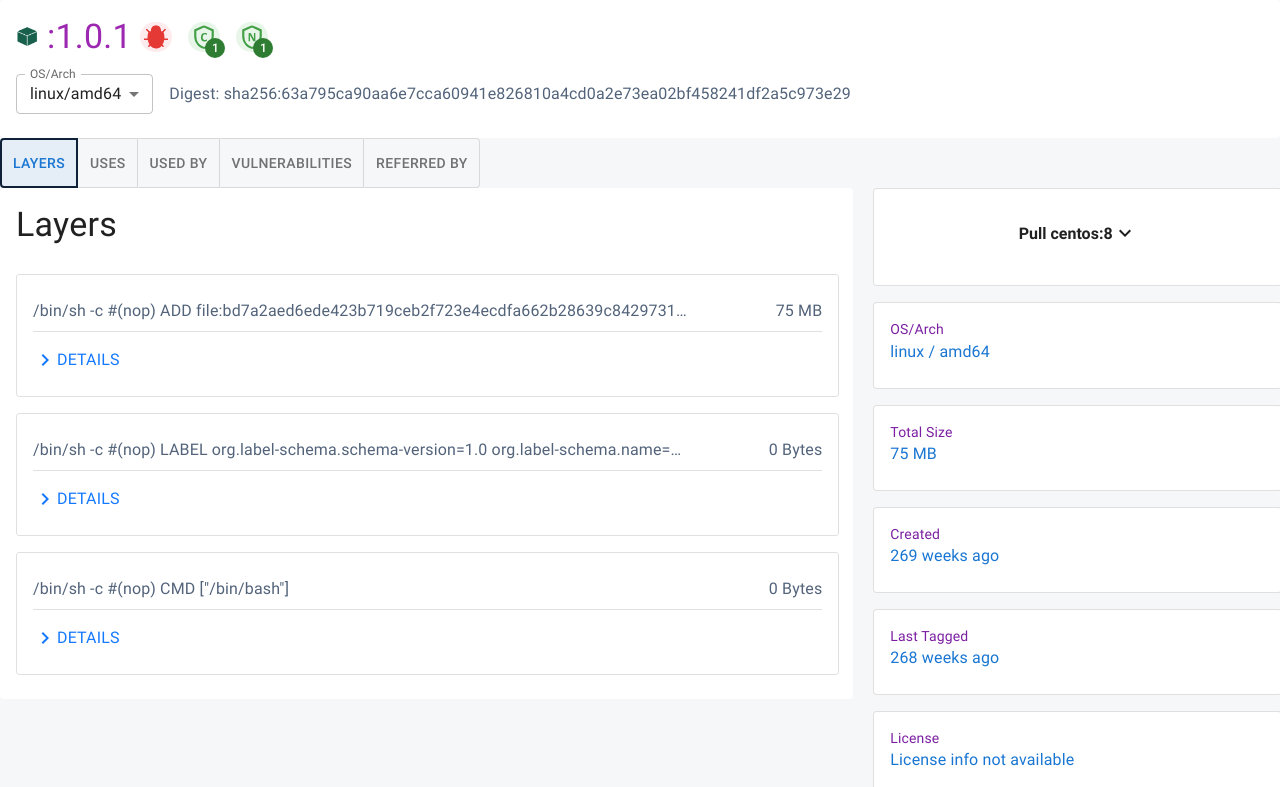
Test case: Tags details › should show tabs and allow nagivation between them
Click the tab with test id "dependencies-tab" at (108, 163), box [78,138,138,188]
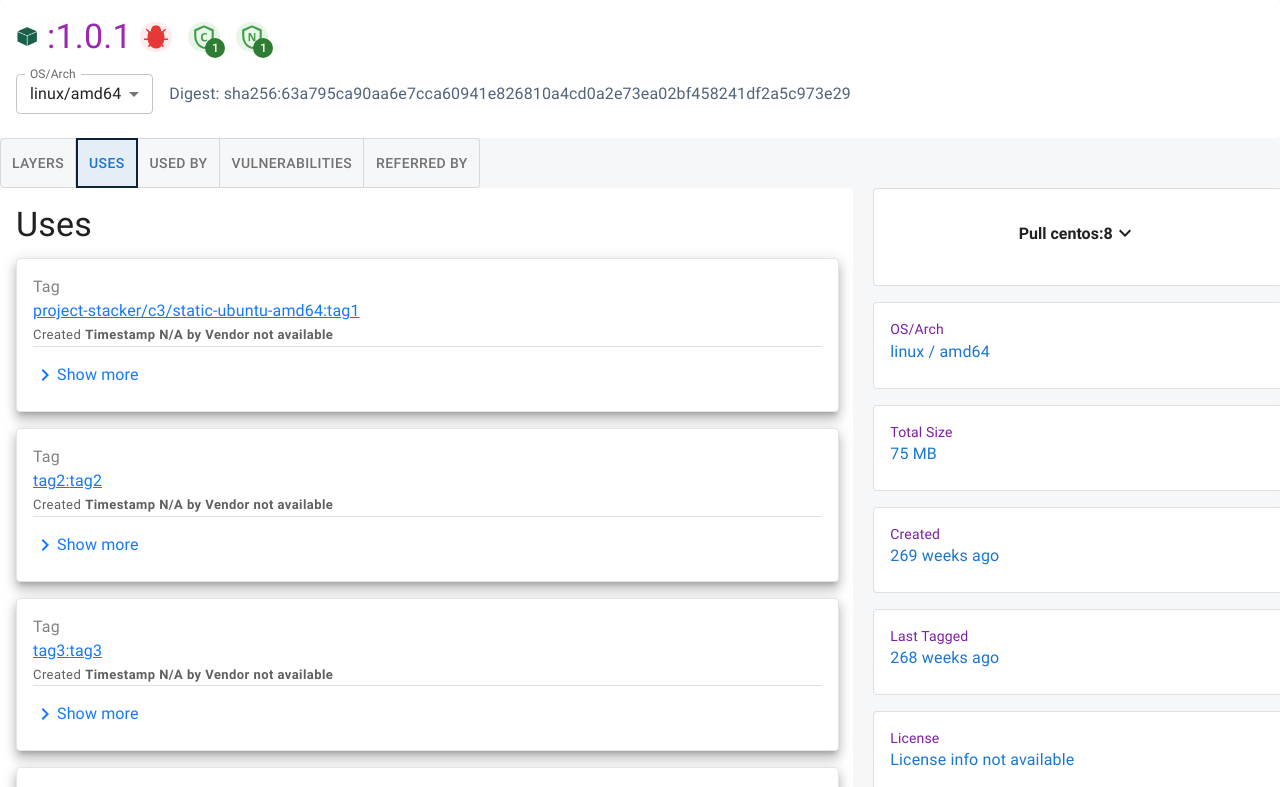
Click the tab "Used by" at (179, 163), box [138,138,220,188]
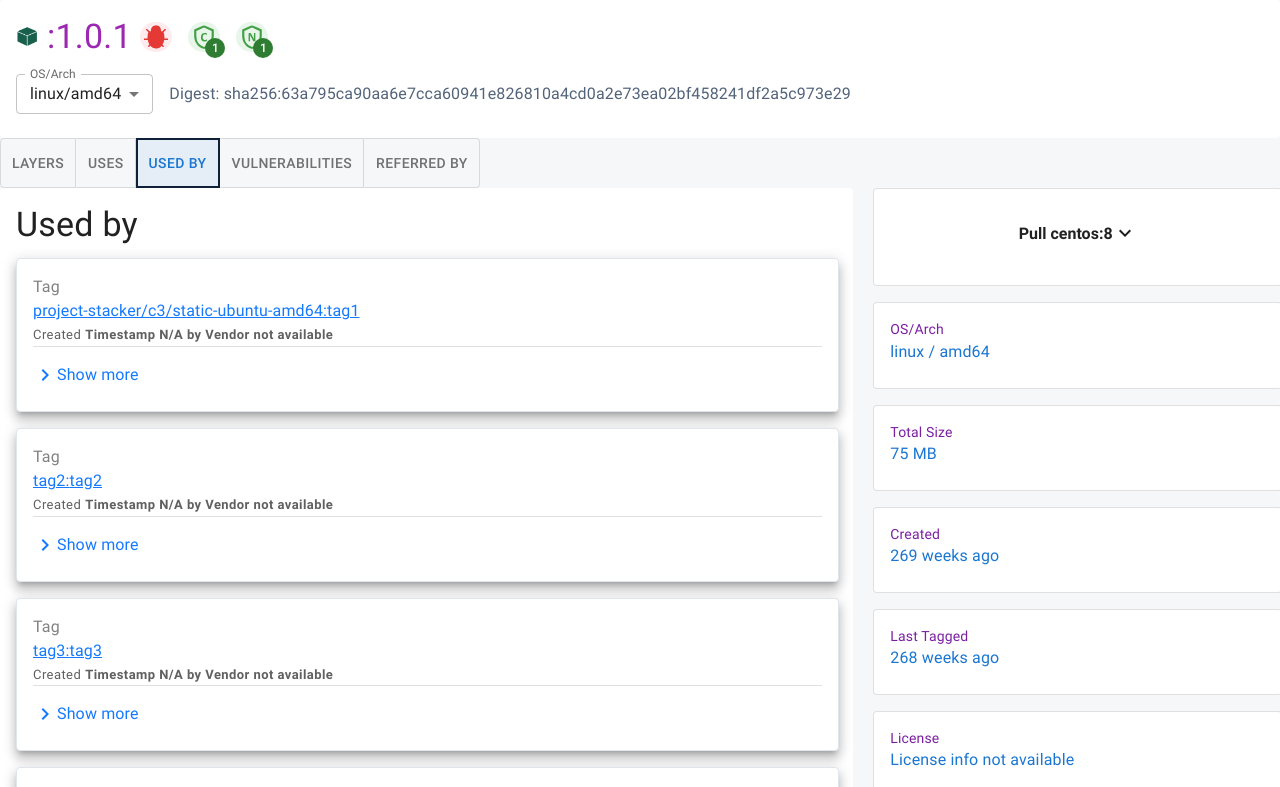
Click the tab "Vulnerabilities" at (292, 163), box [220,138,364,188]
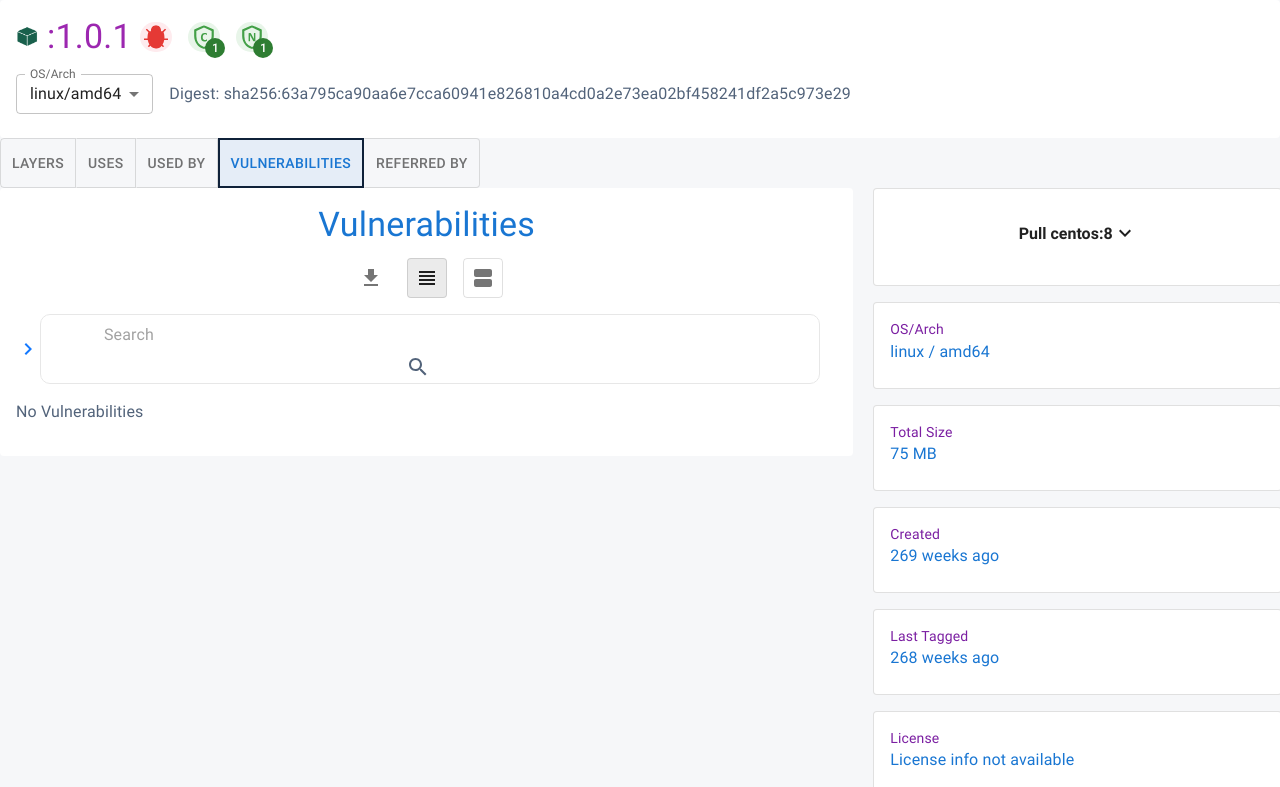
Result: the element with test id "vulnerability-container" is shown at [16,204,837,432]
Click the tab "Referred by" at (422, 163), box [364,138,480,188]
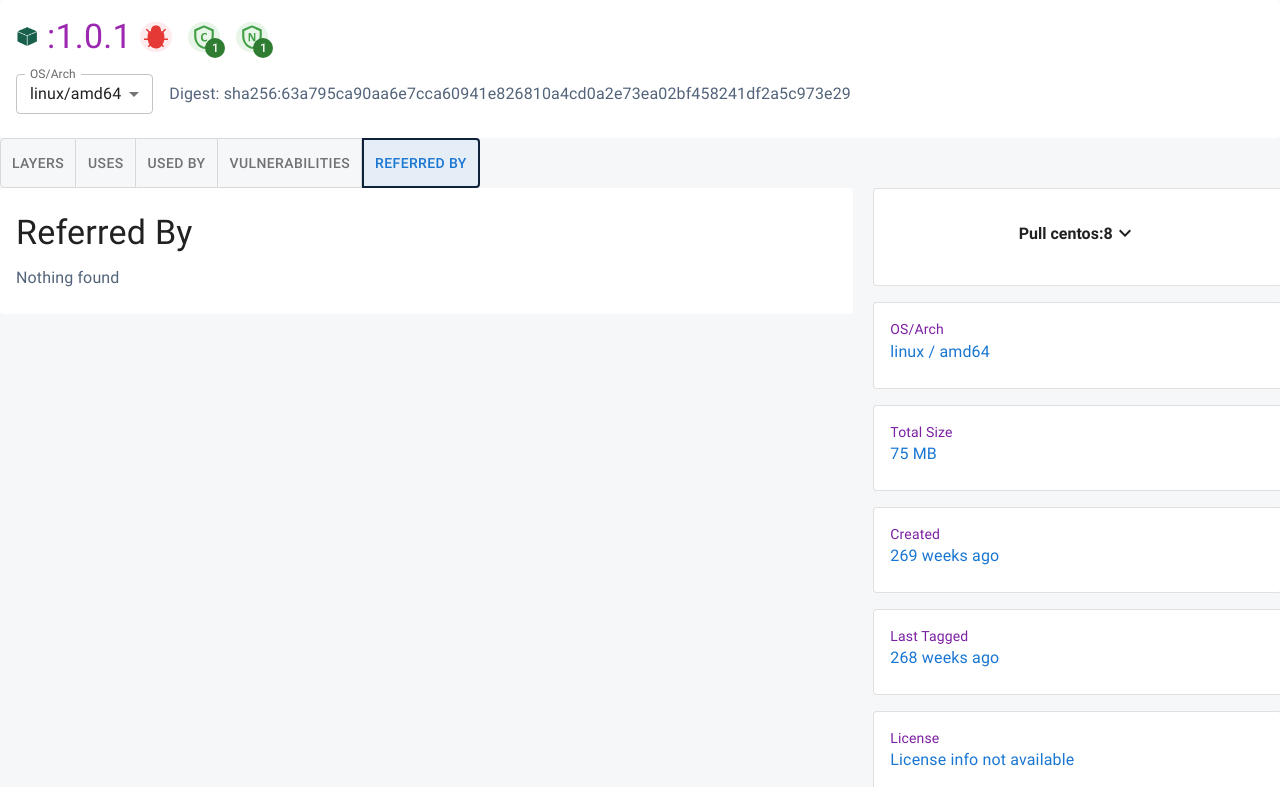
Expected: the number of tabs is 5, [0,138,76,188]; [76,138,136,188]; [136,138,218,188]; [218,138,362,188]; [362,138,480,188]
Result: the element with test id "referred-by-container" is shown at [16,212,193,287]
